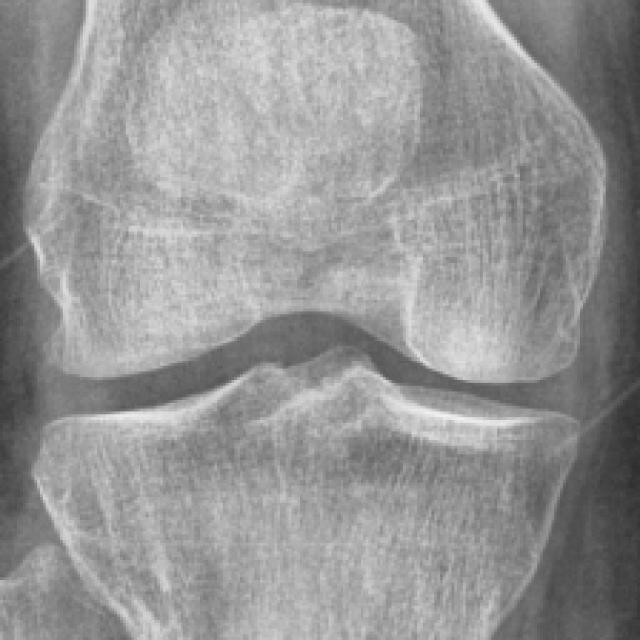femur: (26, 0, 608, 385)
tibia: (44, 354, 581, 640)
